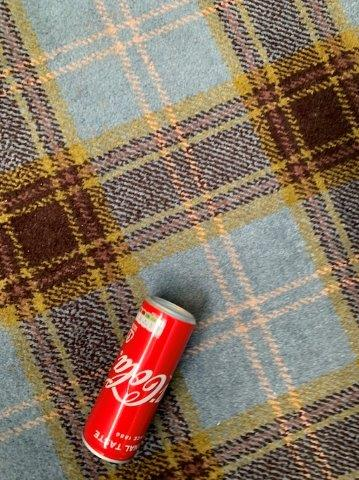kaleng: (84, 296, 197, 463)
